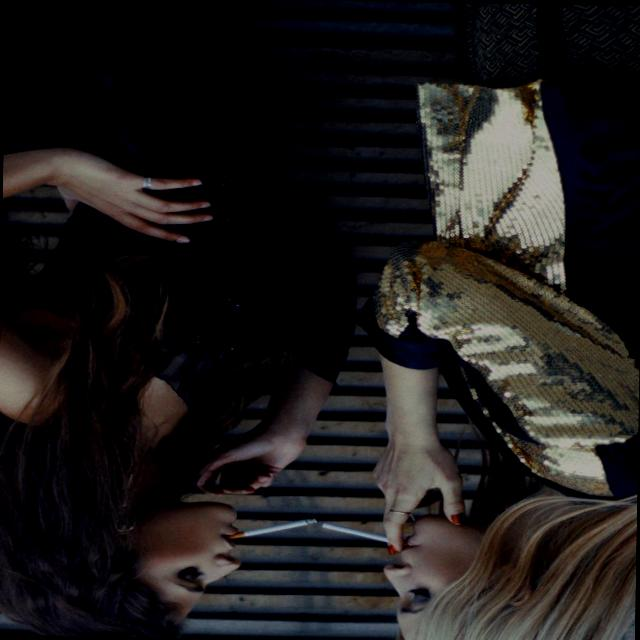smoke: (316, 516, 404, 554), (215, 510, 328, 538)
